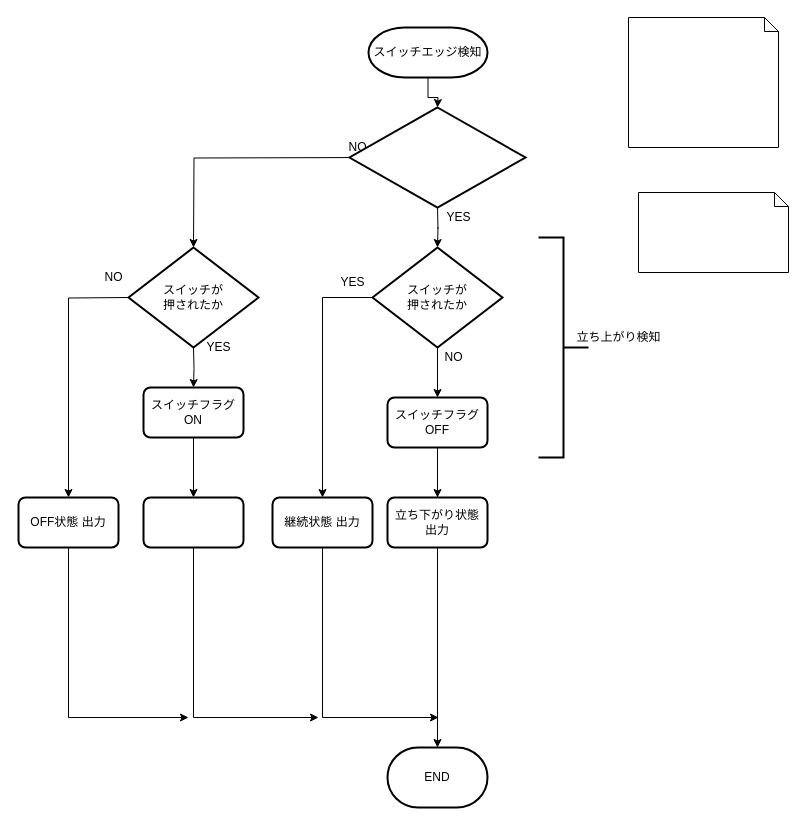
Image size: 806x826. Some labels were removed from this diagram. Each missing label, with the box of its shape:
oldスイッチフラグ は ONか: (348, 106, 526, 208)
スイッチの押下状態 ・押されてすぐの状態 ・押し続けている状態: (638, 192, 788, 272)
スイッチエッジ検知 入力 スイッチ 出力 立ち上がり・下がりめ・OFF: (628, 16, 778, 148)
立ち上がり状態 出力: (142, 496, 244, 548)
